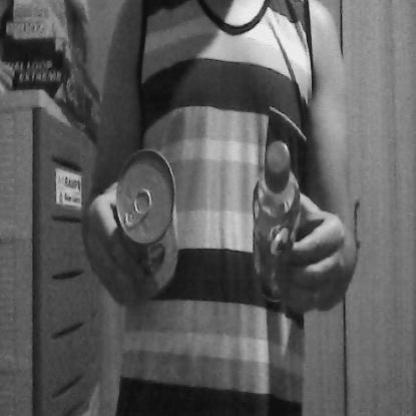Plastic Bottle: (237, 130, 312, 313)
